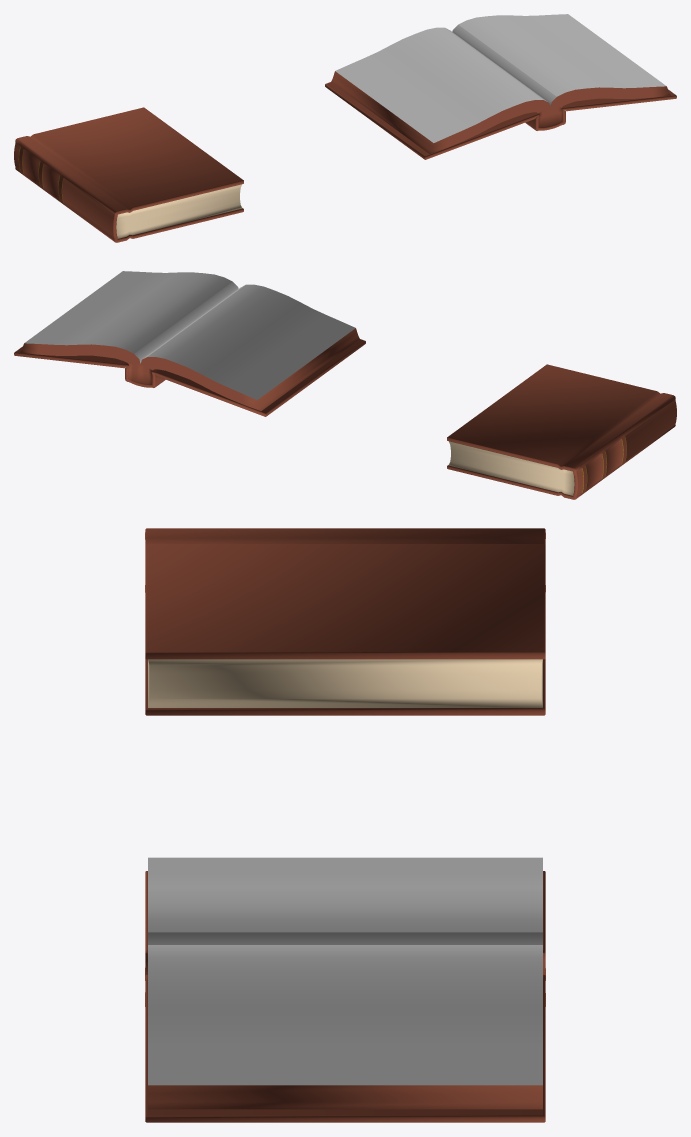
Rendered from book.gltf.
3 views of the same model, one above another, from view 1: azimuth 30°, elevation 25°; view 2: azimuth 150°, elevation 25°; view 3: azimuth 270°, elevation 25° (orthographic). The views are drawn at different scales.
Visible parts, largest first — view 1: Node2, Node1, Node3; view 2: Node2, Node1, Node3; view 3: Node2, Node1, Node3.
Boxes of the visible parts, x1,y1,x2,y2 form: Node2: (335,14,666,142); Node1: (14,107,243,242); Node3: (325,71,676,159); Node2: (24,271,355,399); Node1: (447,364,676,499); Node3: (14,328,365,416); Node2: (148,857,542,1085); Node1: (145,528,545,715); Node3: (145,871,545,1122).
Size of the model in its own units: 2.8 by 0.1943 by 0.8617.
